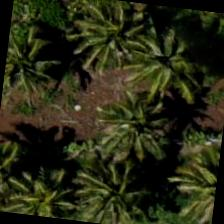Kelapa_Sawit: (91, 80, 191, 180), (113, 13, 212, 113), (61, 0, 162, 90), (66, 146, 166, 223), (0, 21, 71, 119), (0, 154, 94, 222), (162, 141, 220, 223), (0, 127, 45, 215)
